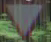Give way: (3, 1, 42, 41)
